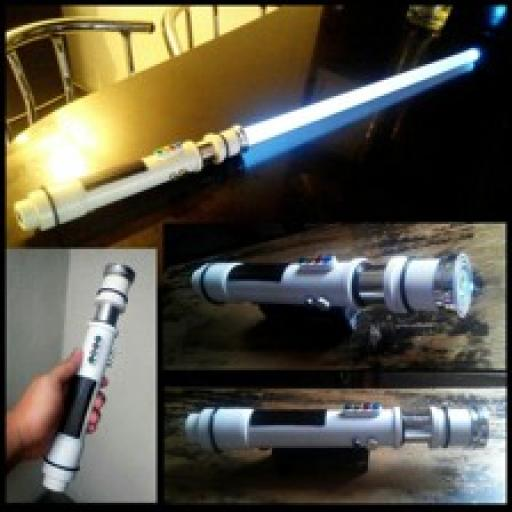lightsaber: (6, 39, 488, 231), (43, 255, 138, 496), (185, 248, 486, 323), (181, 396, 496, 457)
